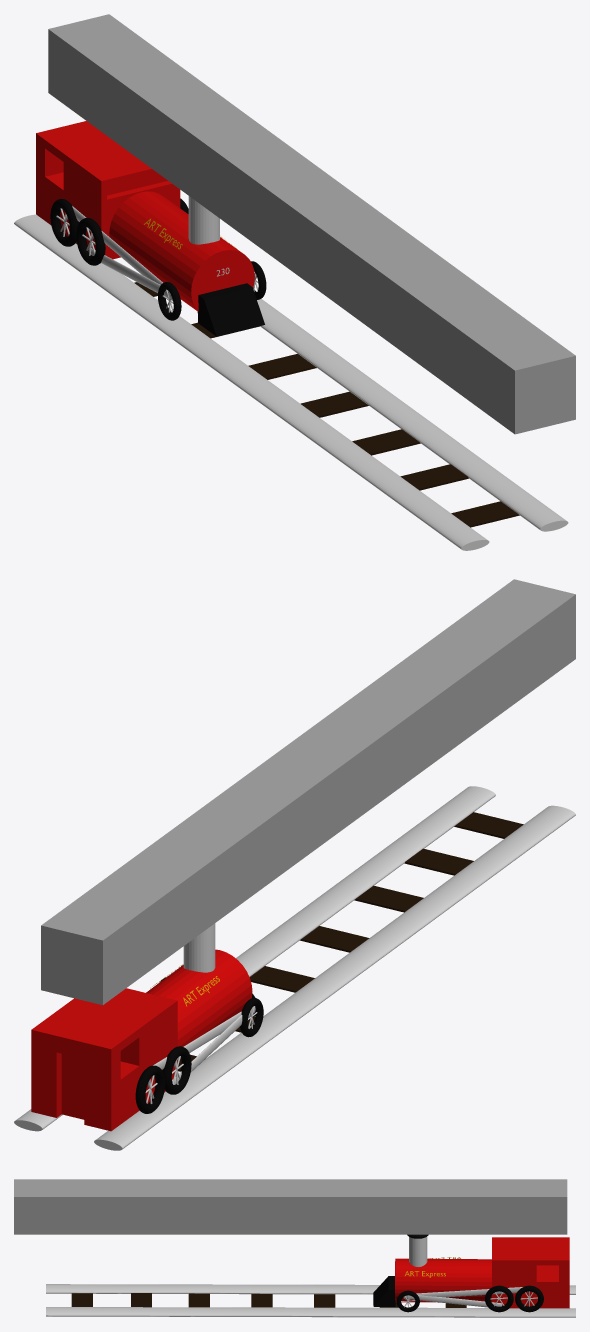
Rendered from train_reset.obj.
3 views of the same model, one above another, from view 1: azimuth 30°, elevation 25°; view 2: azimuth 150°, elevation 25°; view 3: azimuth 270°, elevation 25° (orthographic). The views are drawn at different scales.
Parts seen in each view (by area): view 1: Smoke_Domain.001_Cube.038, Cylinder.067_Cylinder.026, Cylinder.004, Cylinder.068_Cylinder.027, Cylinder.005, Cylinder.006, Cylinder.003, Cube.027_Cube.028, Cube.028_Cube.029, Cube.026_Cube.027, Cube.029_Cube.030, Cube.033_Cube.034 (+4 smaller); view 2: Smoke_Domain.001_Cube.038, Cylinder.004, Cylinder.067_Cylinder.026, Cylinder.068_Cylinder.027, Cylinder.005, Cylinder.003, Cube.027_Cube.028, Cube.028_Cube.029, Cube.026_Cube.027, Cube.029_Cube.030, Cube.033_Cube.034, Cylinder.020 (+1 smaller); view 3: Smoke_Domain.001_Cube.038, Cylinder.068_Cylinder.027, Cylinder.004, Cylinder.067_Cylinder.026, Cylinder.005, Cylinder.006, Cylinder.008, Cylinder.003, Cylinder.031_Cylinder.033, Cylinder.012, Cylinder.016, Cube.028_Cube.029 (+5 smaller).
Boxes of the visible parts, x1,y1,x2,y2 form: Smoke_Domain.001_Cube.038: [48, 14, 575, 434]; Cylinder.067_Cylinder.026: [14, 214, 489, 550]; Cylinder.004: [36, 121, 180, 259]; Cylinder.068_Cylinder.027: [257, 299, 568, 531]; Cylinder.005: [109, 191, 254, 311]; Cylinder.006: [197, 283, 264, 336]; Cylinder.003: [188, 196, 219, 244]; Cube.027_Cube.028: [400, 464, 468, 490]; Cube.028_Cube.029: [352, 429, 420, 455]; Cube.026_Cube.027: [451, 501, 519, 527]; Cube.029_Cube.030: [300, 391, 368, 417]; Cube.033_Cube.034: [248, 354, 316, 379]; Smoke_Domain.001_Cube.038: [41, 579, 575, 1005]; Cylinder.004: [31, 988, 177, 1131]; Cylinder.067_Cylinder.026: [94, 805, 575, 1150]; Cylinder.068_Cylinder.027: [14, 786, 495, 1131]; Cylinder.005: [146, 949, 252, 1060]; Cylinder.003: [183, 923, 215, 972]; Cube.027_Cube.028: [404, 848, 473, 875]; Cube.028_Cube.029: [354, 885, 423, 912]; Cube.026_Cube.027: [454, 812, 523, 838]; Cube.029_Cube.030: [300, 926, 369, 952]; Cube.033_Cube.034: [249, 966, 314, 992]; Cylinder.020: [135, 1065, 165, 1113]; Smoke_Domain.001_Cube.038: [14, 1179, 567, 1234]; Cylinder.068_Cylinder.027: [46, 1307, 575, 1317]; Cylinder.004: [492, 1237, 569, 1308]; Cylinder.067_Cylinder.026: [46, 1284, 575, 1294]; Cylinder.005: [395, 1258, 491, 1302]; Cylinder.006: [373, 1276, 395, 1306]; Cylinder.008: [401, 1295, 502, 1307]; Cylinder.003: [409, 1236, 427, 1266]; Cylinder.031_Cylinder.033: [405, 1287, 529, 1299]; Cylinder.012: [515, 1285, 543, 1312]; Cylinder.016: [485, 1285, 513, 1312]; Cube.028_Cube.029: [188, 1293, 209, 1307].
Size of the model in its own units: 7.9 by 13.92 by 60.54.
